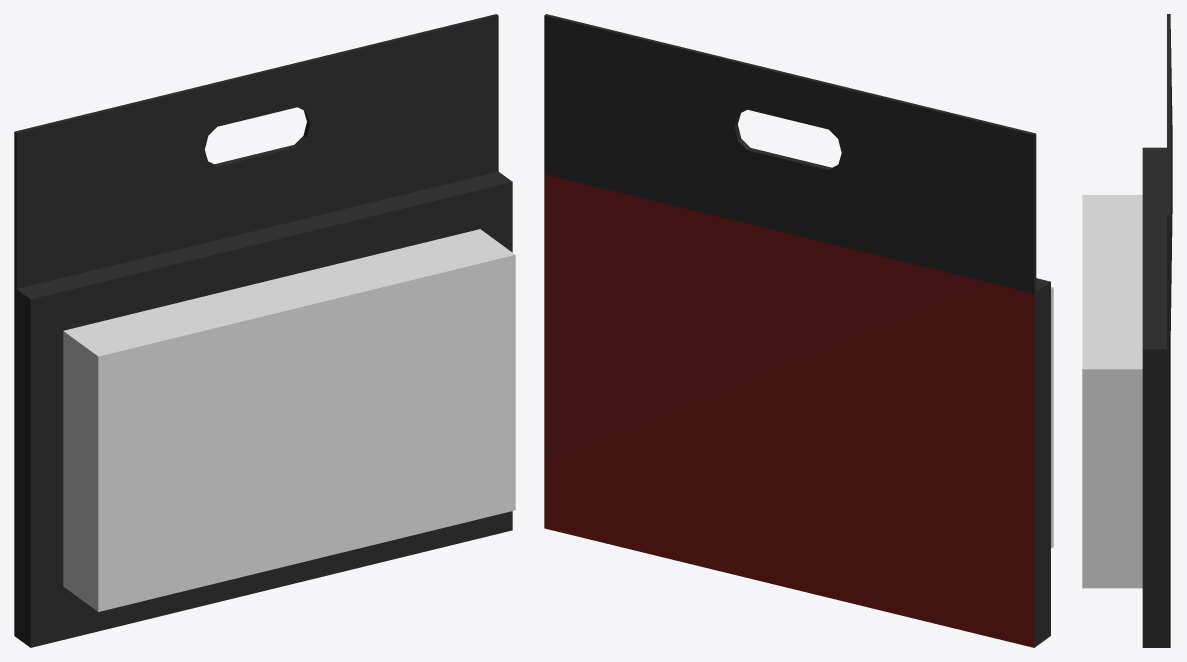
File: geo_vampireTeeth.fbx
3 renders of one model, left to right at view 1: azimuth 30°, elevation 25°; view 2: azimuth 150°, elevation 25°; view 3: azimuth 270°, elevation 25°, orthographic. The views are drawn at different scales.
Parts seen in each view (by area): view 1: VampireTeeth; view 2: VampireTeeth; view 3: VampireTeeth.
Part boxes in pixels (x1,y1,x2,y2): VampireTeeth: (14,14,515,647); VampireTeeth: (544,14,1053,647); VampireTeeth: (1082,14,1172,647).
Bounding box in the file's own units: 123 × 123 × 23.28.
